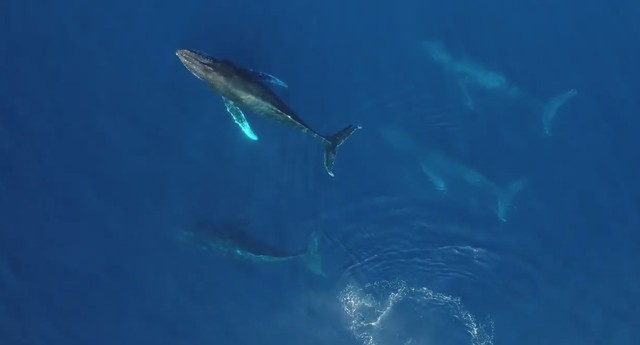whale: (172, 45, 369, 185), (415, 35, 587, 144), (371, 121, 537, 228), (149, 211, 330, 278)
